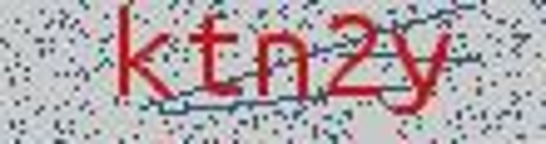2: (318, 9, 383, 107)
k: (102, 3, 179, 109)
n: (251, 20, 312, 115)
t: (186, 7, 246, 108)
y: (384, 17, 459, 118)
